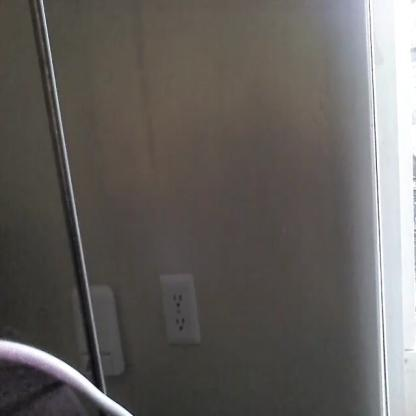OUTLET: (162, 272, 198, 342)
